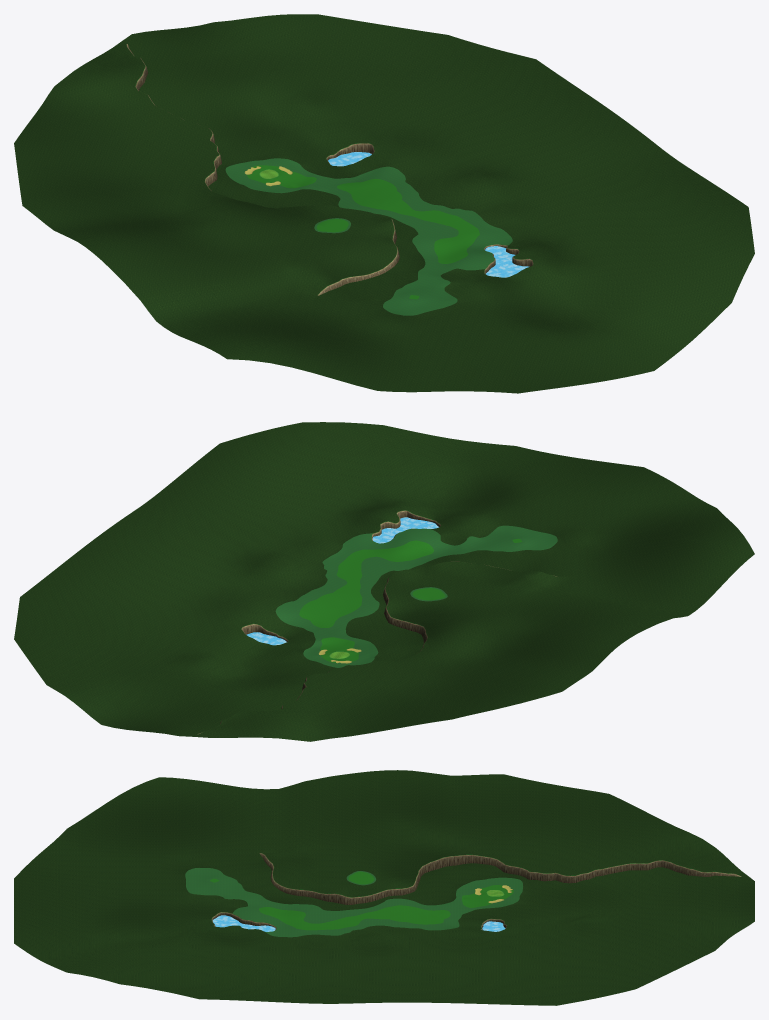
File: glf_map_fc8__glf_map_fc8.glb
3 renders of one model, top to bottom at view 1: azimuth 30°, elevation 25°; view 2: azimuth 150°, elevation 25°; view 3: azimuth 270°, elevation 25°, orthographic. The views are drawn at different scales.
Parts seen in each view (by area): view 1: polygon4, polygon6, polygon2, polygon5, polygon7; view 2: polygon4, polygon6, polygon2, polygon5, polygon7; view 3: polygon4, polygon6, polygon5, polygon2, polygon7.
Boxes of the visible parts, x1,y1,x2,y2 form: polygon4: (14,14,754,393); polygon6: (225,158,512,315); polygon2: (247,165,479,299); polygon5: (126,44,533,295); polygon7: (328,152,529,277); polygon4: (14,422,754,741); polygon6: (275,525,557,667); polygon2: (299,538,521,662); polygon5: (197,510,556,734); polygon7: (246,517,438,645); polygon4: (14,770,754,1005); polygon6: (185,868,522,937); polygon5: (211,853,741,930); polygon2: (210,871,513,930); polygon7: (212,915,505,931).
Bounding box in the file's own units: 8000 × 560 × 11200.
Materials: 8 (8 with a texture image).
